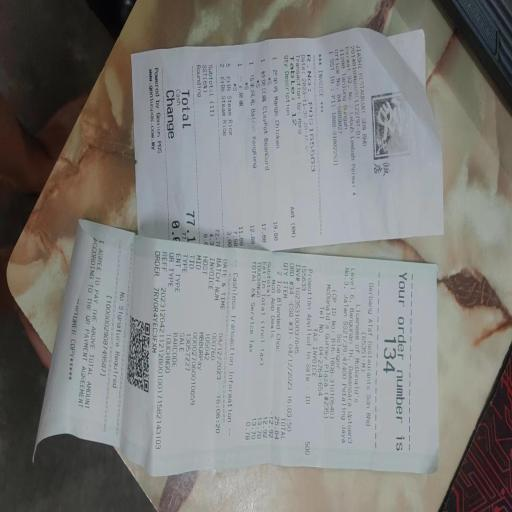paper: (34, 28, 449, 473)
